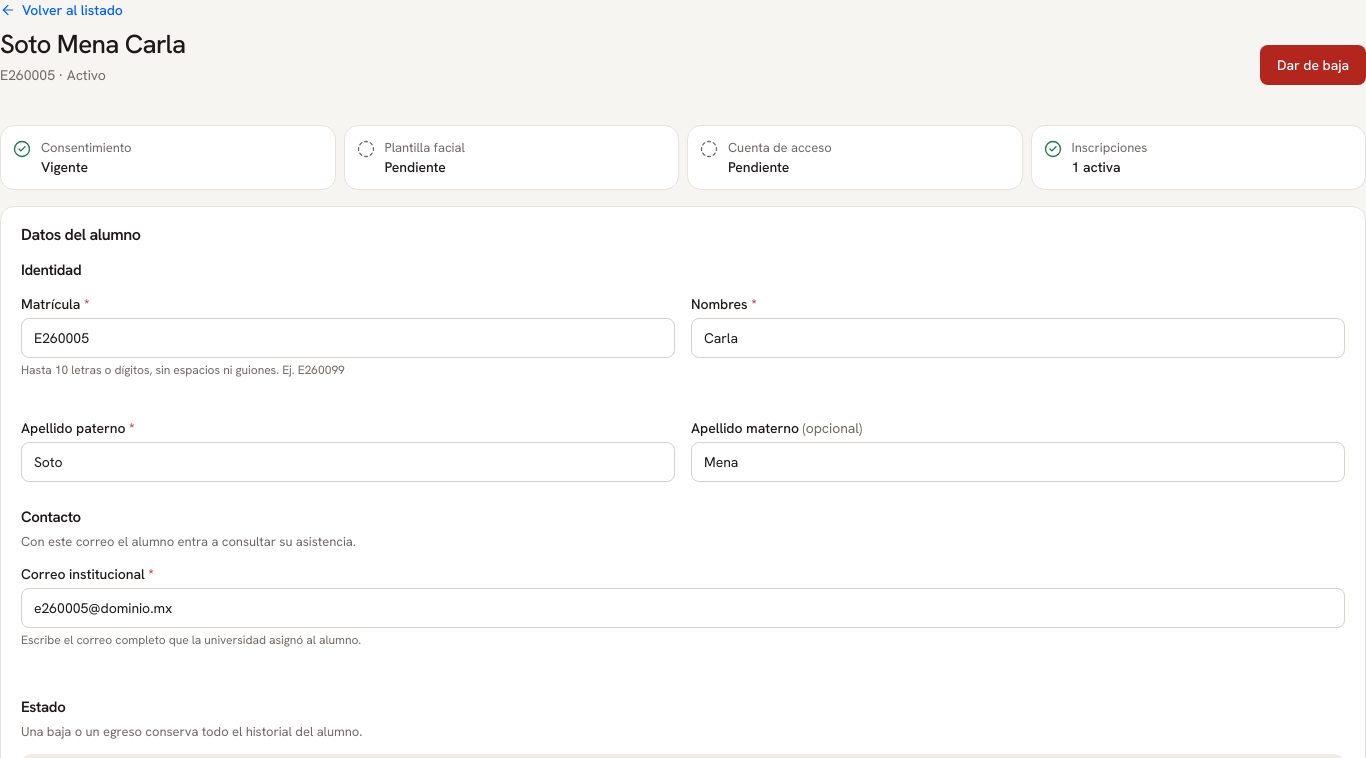
Scenario: DetalleAlumno: baja con confirmación única › «Dar de baja» del encabezado usa el mismo diálogo
What coordinates should you click on to do the following:
click the button "Dar de baja"
I would click on:
 (1313, 64)
Its box is left=1260, top=44, right=1365, bottom=84.
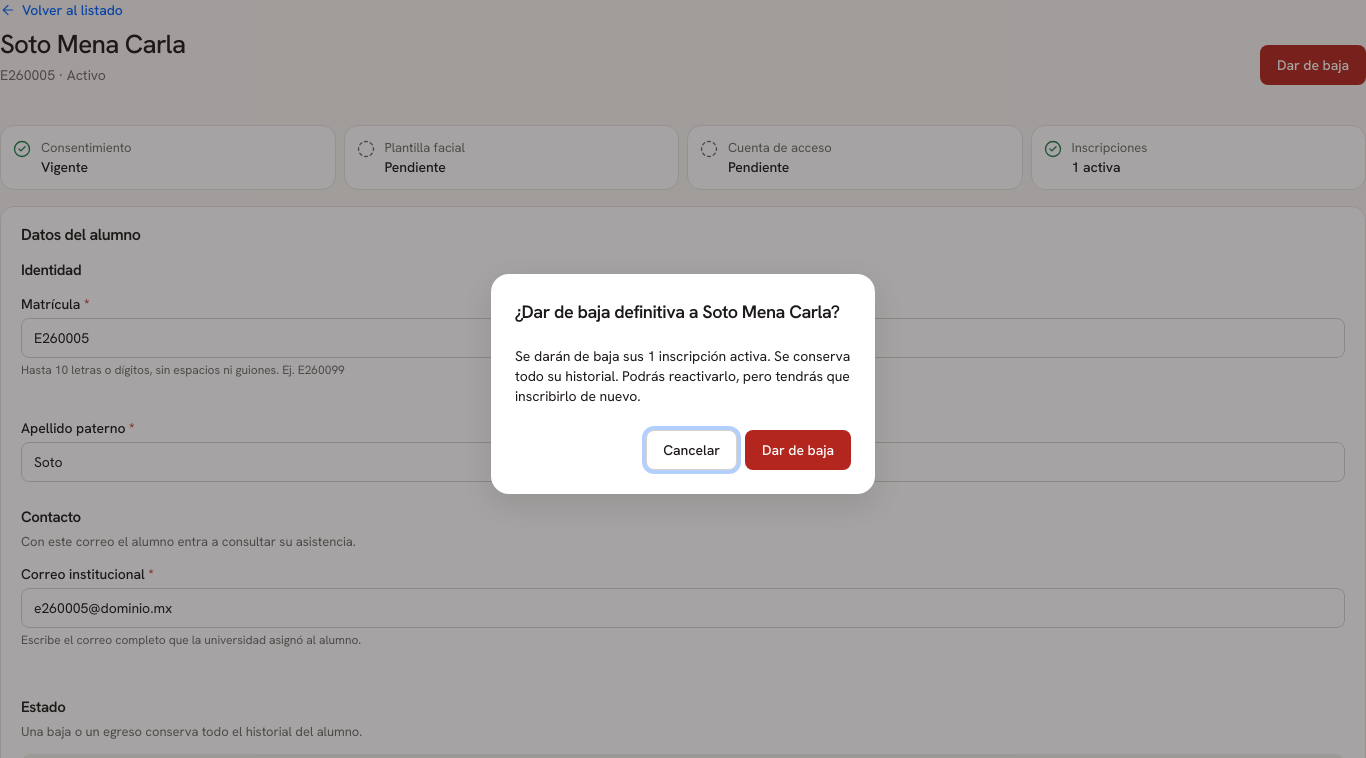
Expected: the heading "¿Dar de baja definitiva a Soto Mena Carla?" is shown, left=515, top=298, right=851, bottom=326
What coordinates should you click on to do the following:
click the button "Dar de baja"
I would click on:
 (798, 450)
Its box is left=745, top=430, right=851, bottom=470.
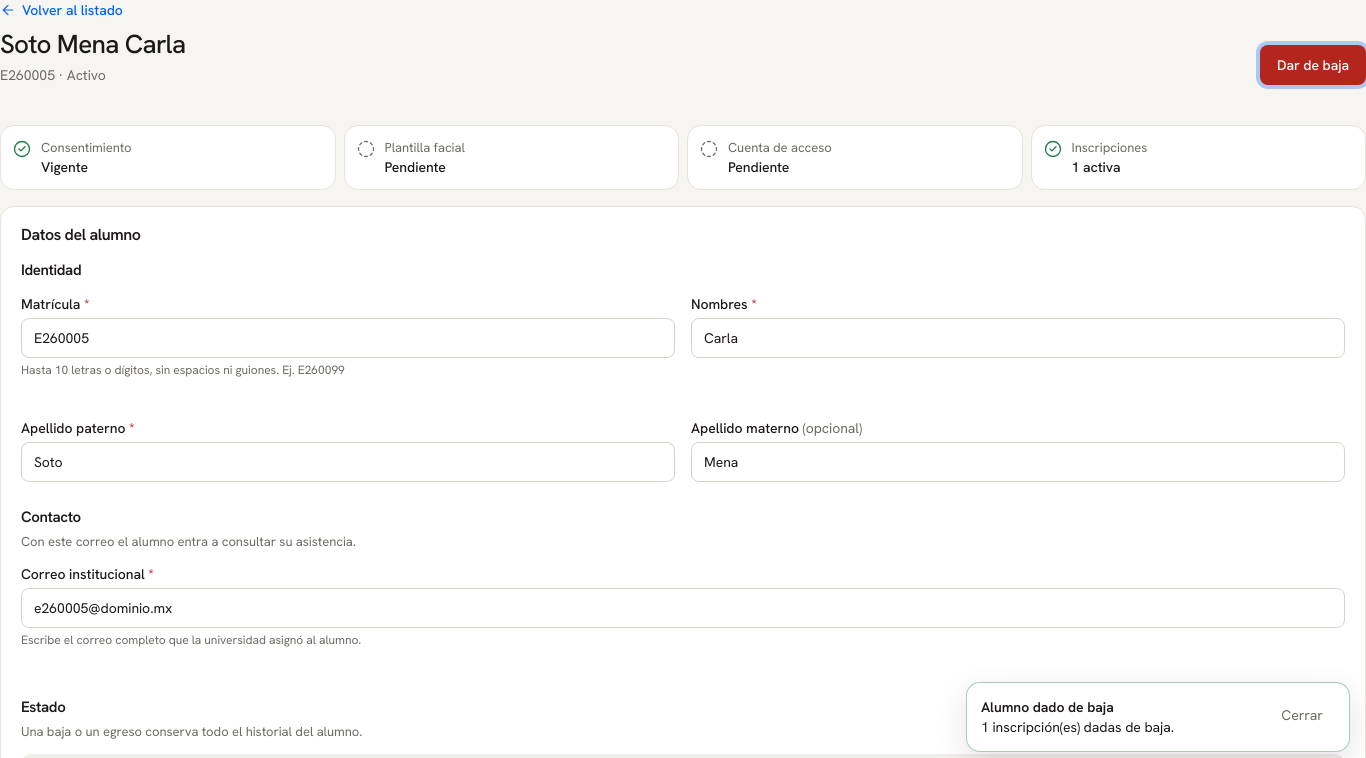
Expected: the text "Alumno dado de baja" is shown, left=981, top=698, right=1114, bottom=716
